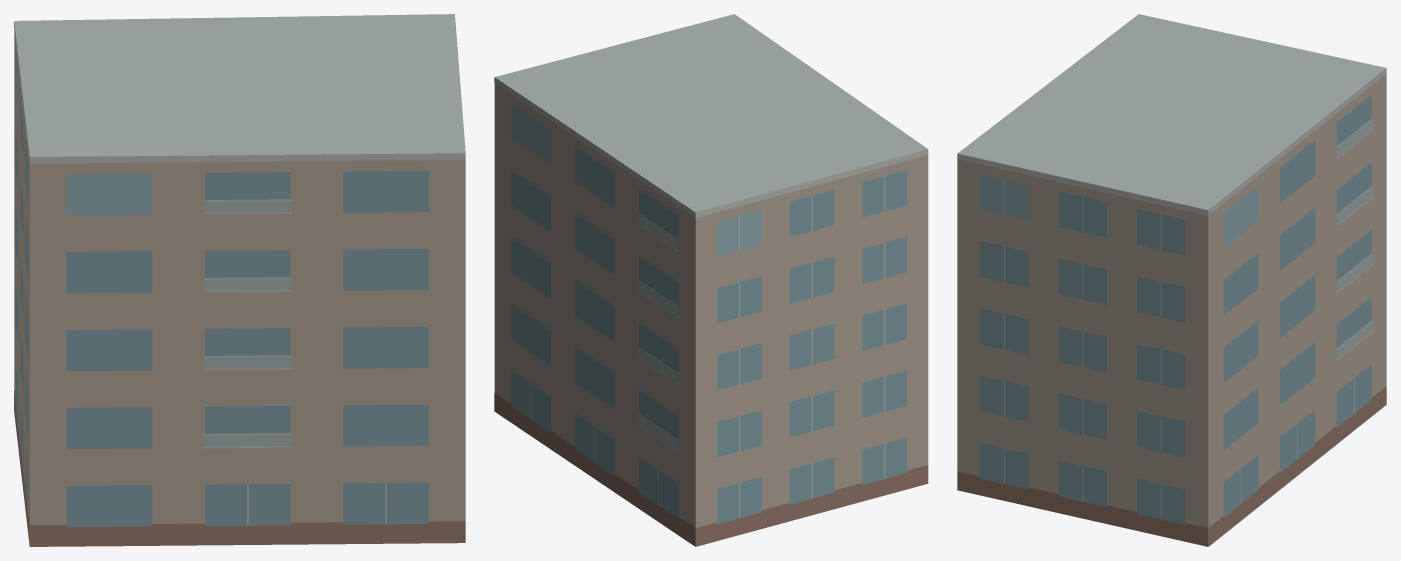
The model's file is survey-upis-32770461.glb.
The picture shows the model from 3 angles, left to right: view 1: azimuth 30°, elevation 25°; view 2: azimuth 150°, elevation 25°; view 3: azimuth 270°, elevation 25°; orthographic projection. The views are drawn at different scales.
Parts seen in each view (by area): view 1: survey-upis-32770461.tmp; view 2: survey-upis-32770461.tmp; view 3: survey-upis-32770461.tmp.
Boxes of the visible parts, x1,y1,x2,y2 form: survey-upis-32770461.tmp: (14, 14, 465, 546); survey-upis-32770461.tmp: (494, 14, 928, 546); survey-upis-32770461.tmp: (957, 14, 1386, 546).
Size of the model in its own units: 18 by 14.4 by 16.64.
